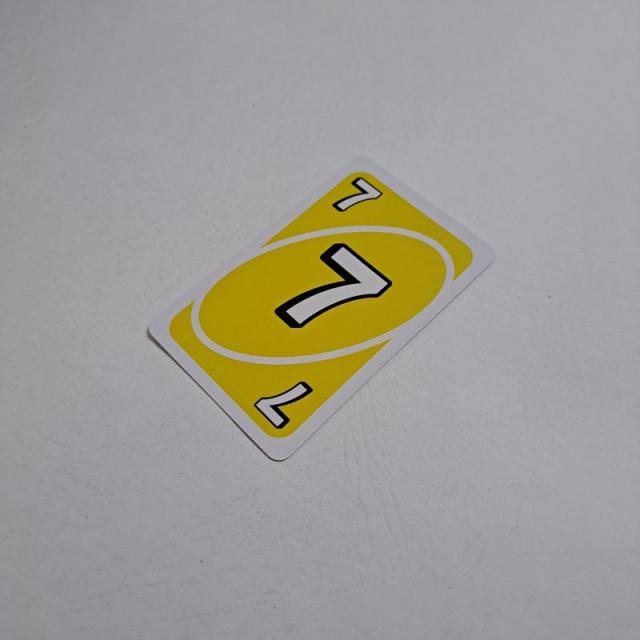Number_7: (330, 171, 392, 214)
Yellow_Card: (164, 163, 483, 444)
